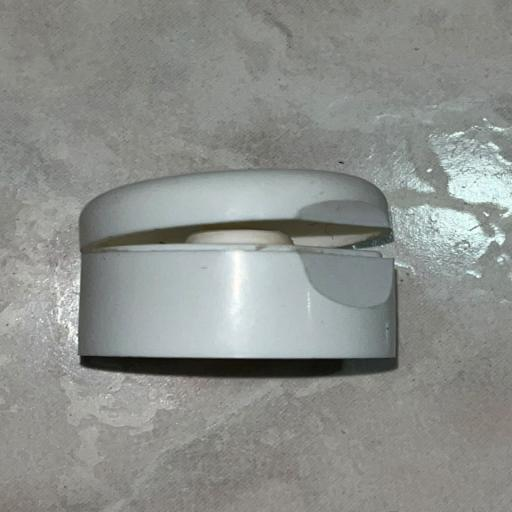HDPE: (44, 140, 431, 417)
